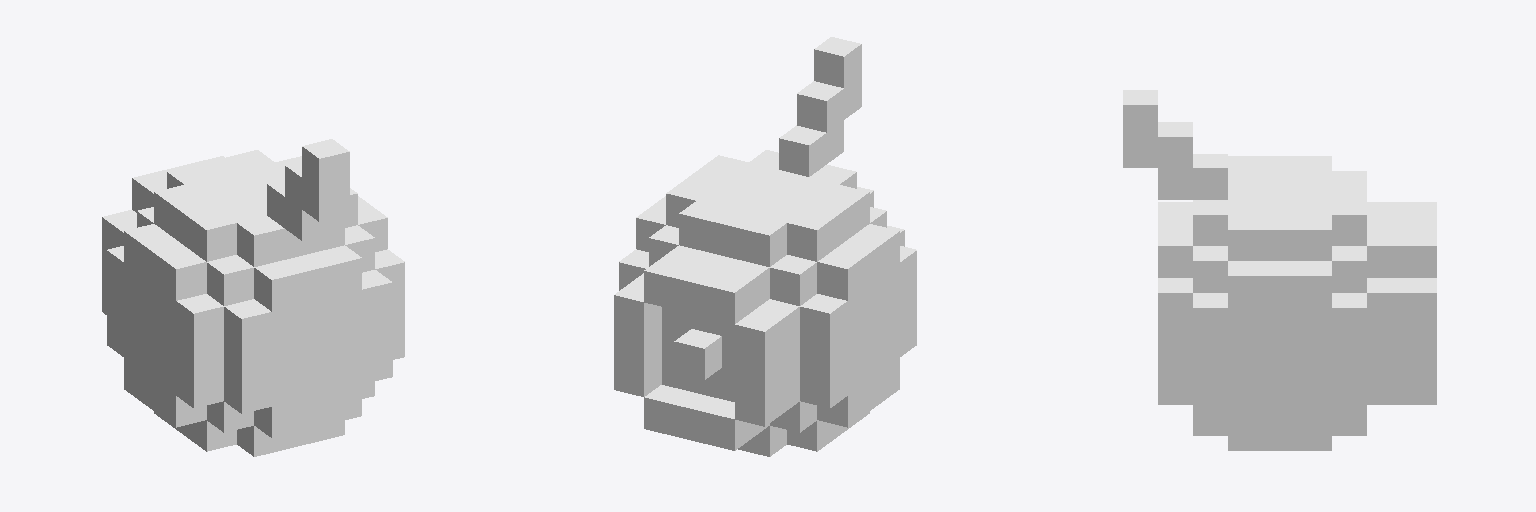
Rendered from enemy1.obj.
3 views of the same model, side by side, from view 1: azimuth 30°, elevation 25°; view 2: azimuth 150°, elevation 25°; view 3: azimuth 270°, elevation 25° (orthographic).
Bounding box in the file's own units: 7 × 10 × 9.